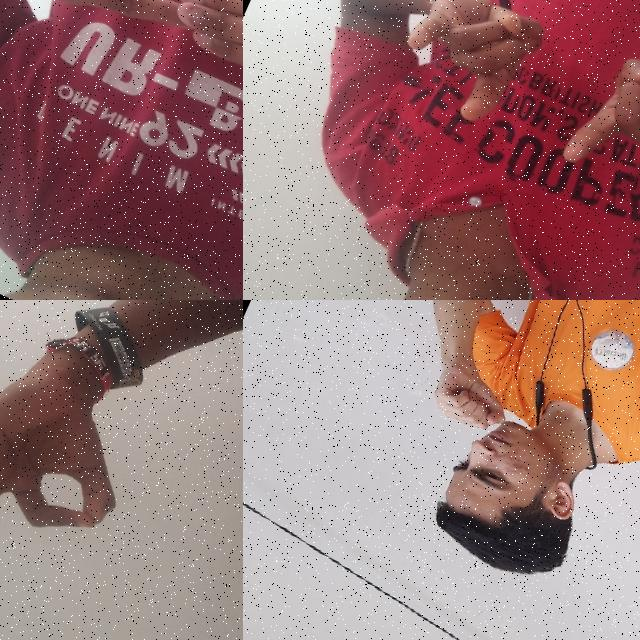Corna: (375, 0, 565, 143), (553, 35, 640, 223)
Fist Mouth: (360, 342, 630, 604)
Five Fathers: (0, 0, 243, 146)
Okay: (0, 300, 183, 626)
